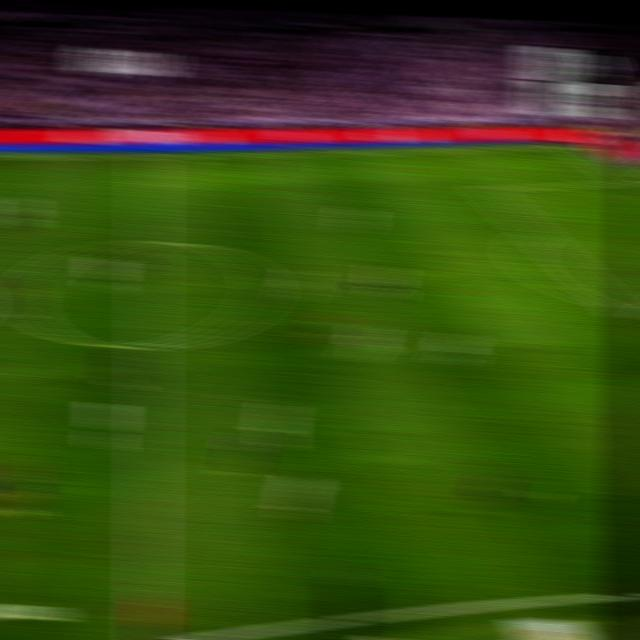bigarea_top_inner: (476, 180, 501, 197)
bigarea_top_outter: (615, 173, 640, 186)
bottom_arc_area_intersection: (602, 295, 630, 315)
corner: (557, 138, 585, 151)
halfcircle_bottom: (132, 329, 164, 362)
halfcircle_top: (134, 228, 164, 254)
midline_top_intersection: (136, 149, 163, 167)
top_arc_area_intersection: (524, 224, 550, 242)
